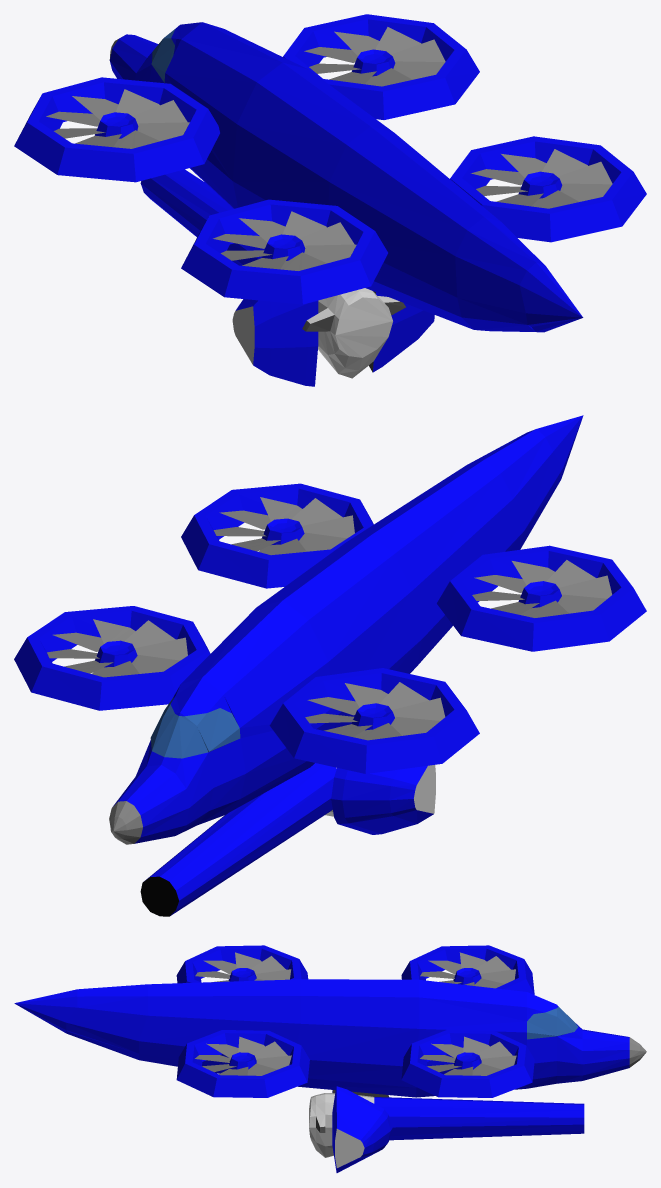
Rendered from blueTank.FBX.
3 renders of one model, top to bottom at view 1: azimuth 30°, elevation 25°; view 2: azimuth 150°, elevation 25°; view 3: azimuth 270°, elevation 25°, orthographic. The views are drawn at different scales.
Visible parts, largest first — view 1: VIFS001, VIFS004, VIFS015, VIFS006, VIFS011, VIFS013, VIFS008, VIFS016, VIFS005, VIFS014, VIFS012, VIFS002 (+1 smaller); view 2: VIFS001, VIFS006, VIFS004, VIFS015, VIFS013, VIFS011, VIFS012, VIFS014, VIFS005, VIFS016, VIFS002, VIFS007 (+2 smaller); view 3: VIFS001, VIFS006, VIFS011, VIFS013, VIFS004, VIFS015, VIFS008, VIFS014, VIFS012, VIFS005, VIFS016, VIFS002.
Part boxes in pixels (x1,y1,x2,y2): VIFS001: (109, 22, 583, 332); VIFS004: (14, 77, 219, 182); VIFS015: (181, 199, 387, 304); VIFS006: (140, 169, 434, 386); VIFS011: (450, 136, 646, 242); VIFS013: (283, 14, 479, 119); VIFS008: (232, 288, 399, 378); VIFS016: (213, 211, 356, 270); VIFS005: (46, 89, 189, 148); VIFS014: (304, 27, 445, 86); VIFS012: (471, 149, 612, 208); VIFS002: (151, 29, 175, 82); VIFS001: (113, 415, 583, 843); VIFS006: (145, 763, 433, 915); VIFS004: (269, 668, 479, 773); VIFS015: (437, 545, 646, 651); VIFS013: (14, 606, 210, 710); VIFS011: (181, 483, 373, 588); VIFS012: (213, 497, 354, 555); VIFS014: (47, 619, 187, 677); VIFS005: (305, 682, 445, 740); VIFS016: (472, 560, 612, 617); VIFS002: (150, 697, 240, 758); VIFS007: (140, 876, 178, 916); VIFS001: (14, 979, 629, 1097); VIFS006: (332, 1086, 584, 1172); VIFS011: (176, 1030, 309, 1097); VIFS013: (401, 1030, 534, 1097); VIFS004: (401, 945, 534, 994); VIFS015: (176, 945, 308, 983); VIFS008: (309, 1093, 374, 1167); VIFS014: (420, 1036, 516, 1075); VIFS012: (195, 1036, 291, 1075); VIFS005: (420, 952, 515, 988); VIFS016: (195, 952, 291, 982); VIFS002: (527, 1006, 578, 1039).
Size of the model in its own units: 2.57 by 1.56 by 4.88.
